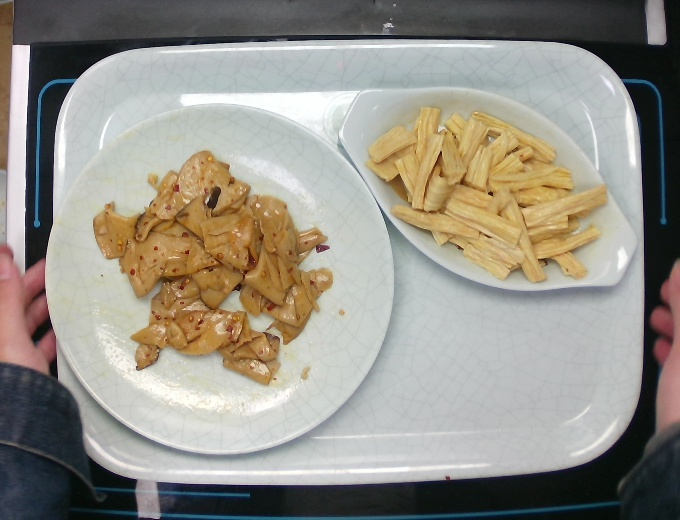JYsf-Da_Yuan_Pan: (42, 98, 398, 458)
JYsf-Yu_Pan: (333, 80, 640, 298)
